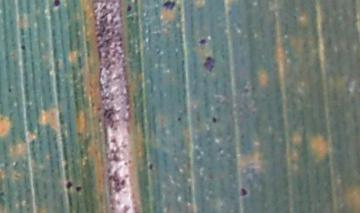tarspot: (203, 55, 216, 73), (163, 1, 177, 11), (239, 185, 248, 198), (125, 2, 132, 14), (65, 181, 73, 189), (54, 1, 62, 8), (199, 38, 207, 45), (75, 185, 82, 192), (211, 116, 218, 123), (149, 162, 154, 171), (21, 44, 27, 51), (6, 87, 13, 93), (177, 115, 182, 122)
